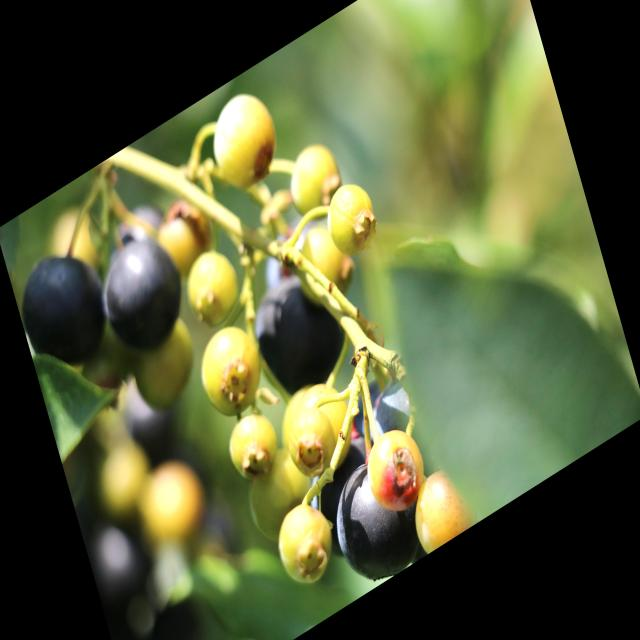blueberry: (237, 245, 359, 421), (320, 436, 432, 601), (10, 226, 121, 392), (289, 412, 398, 574), (90, 212, 200, 371), (338, 352, 427, 468), (109, 192, 169, 268)
blueberry-unripe: (199, 80, 287, 204), (192, 309, 274, 433), (268, 488, 345, 597), (129, 308, 205, 415), (403, 453, 480, 558), (359, 415, 431, 523), (138, 442, 209, 548), (178, 234, 246, 336), (318, 168, 382, 263), (280, 132, 344, 225), (222, 399, 285, 490), (282, 398, 342, 485), (157, 204, 203, 274)
